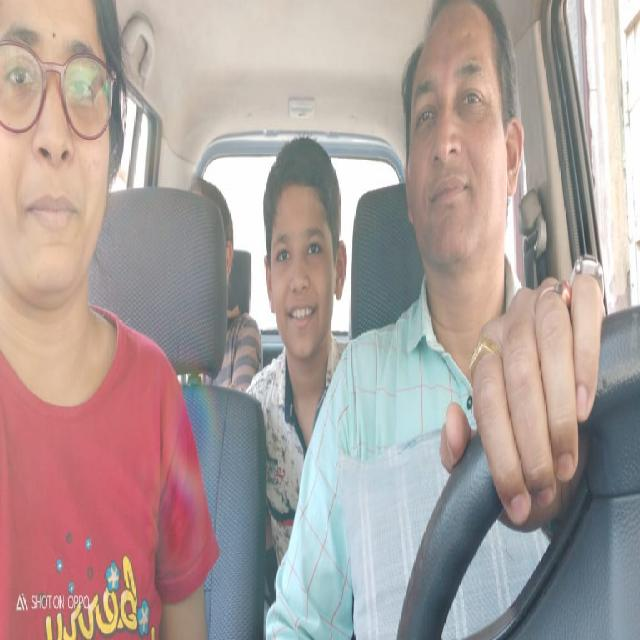person: (0, 1, 126, 332), (401, 0, 527, 287), (261, 133, 351, 364)
